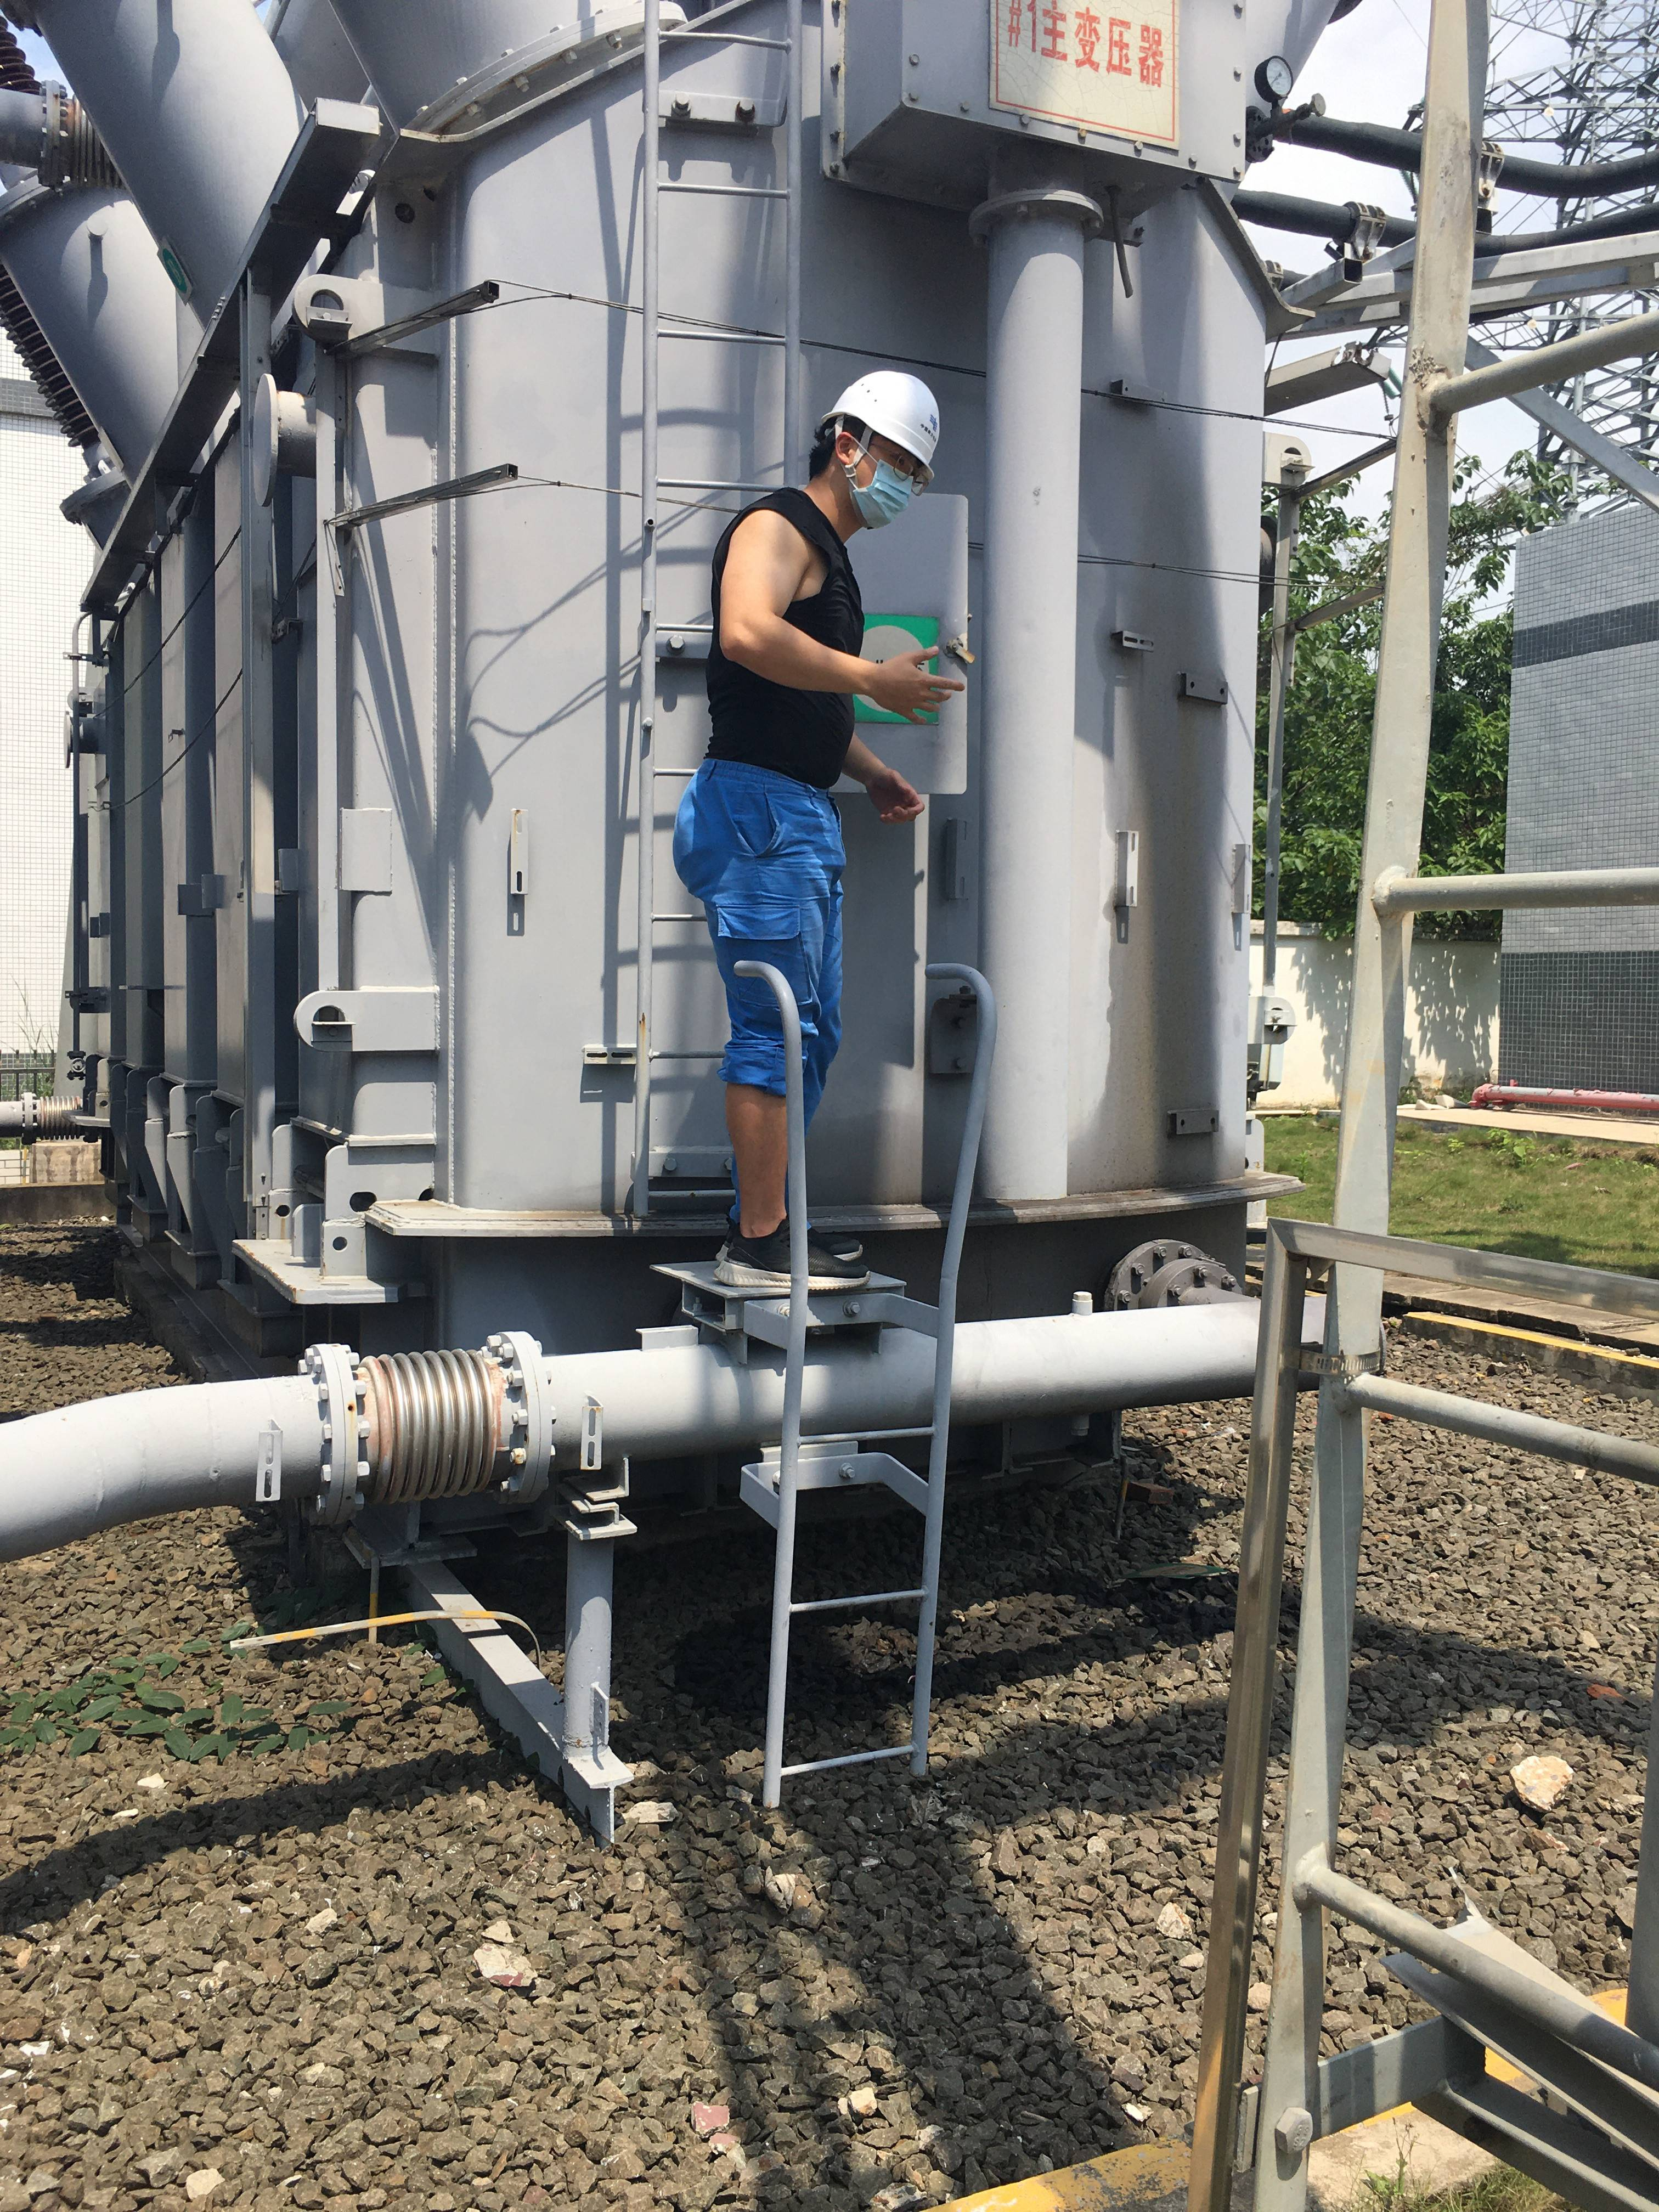downsuit: (669, 758, 854, 1101)
upcloth: (706, 484, 870, 759)
wrongbottom: (711, 1055, 814, 1247)
